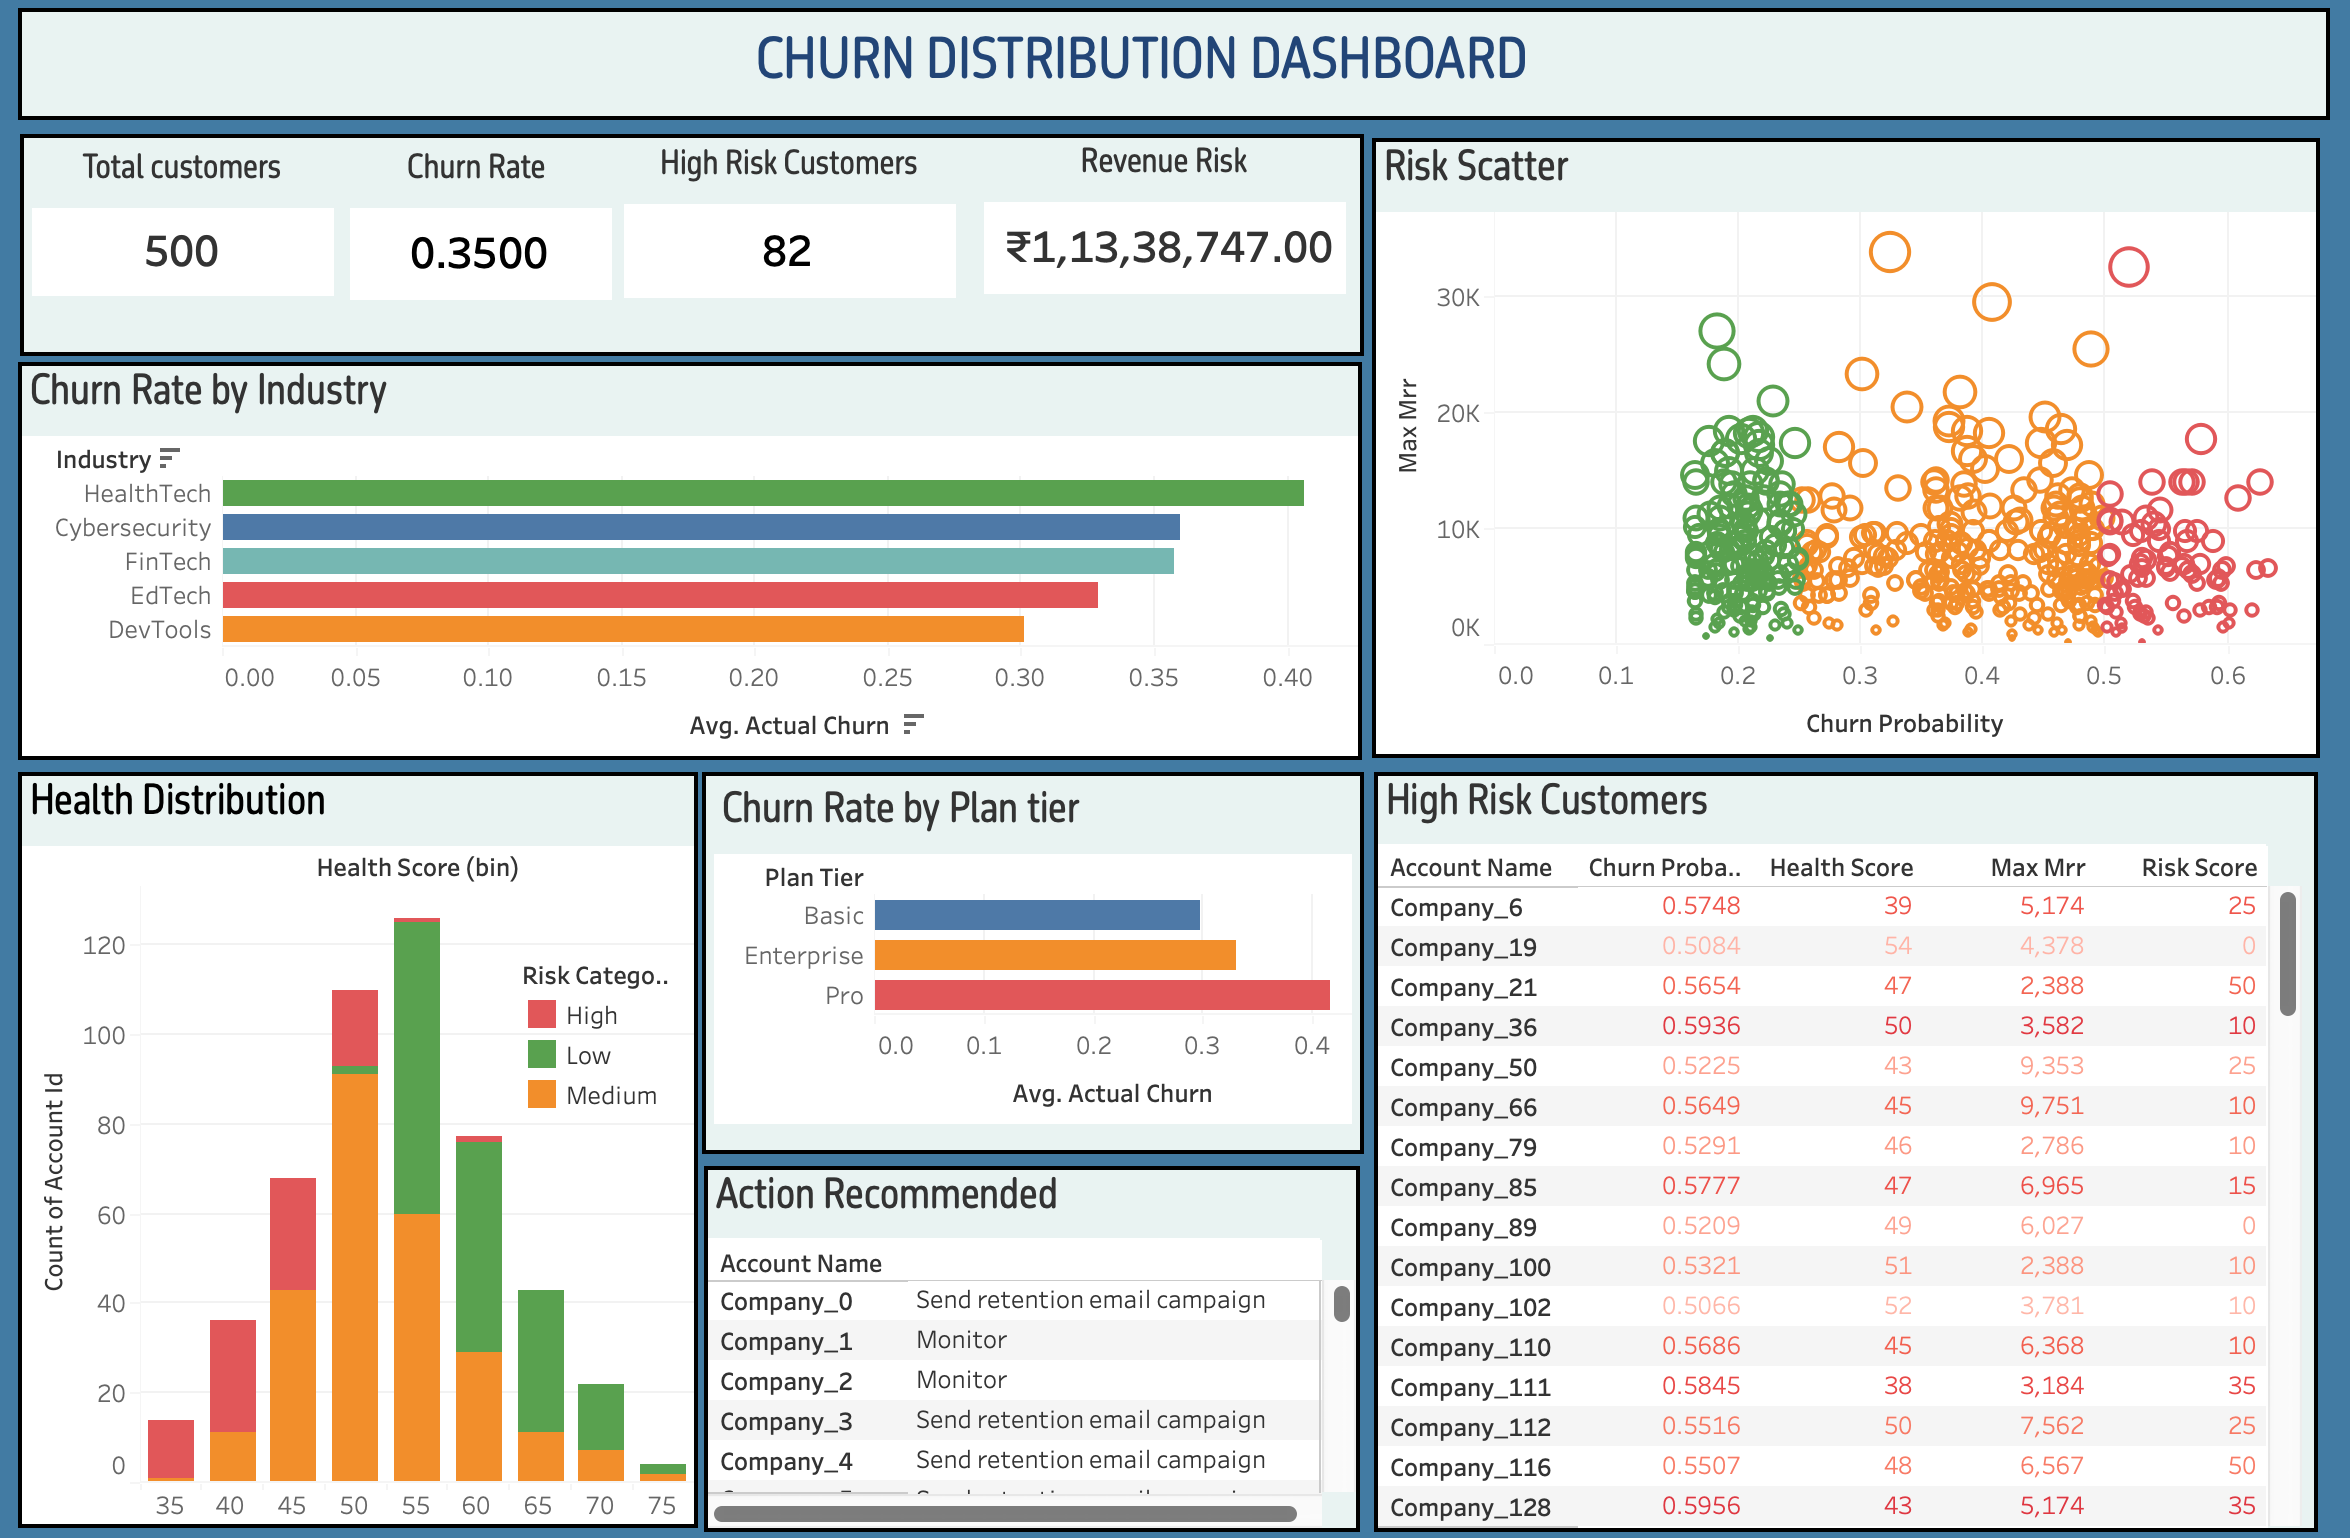

The dashboard page shown, as its layout file describes it:
{"tool":"tableau","page":{"name":"Churn dashboard","canvas":[1200,800],"ordinal":0},"visuals":[{"type":"text","box":[24,23,1120,52]},{"type":"blank","box":[1144,23,32,52]},{"type":"worksheet","title":"risk scatter","mark":"Automatic","rows":["max_mrr"],"cols":["churn_probability"],"box":[695,82,482,318]},{"type":"worksheet","title":"Total_customer","mark":"Automatic","box":[25,86,159,107]},{"type":"worksheet","title":"Churn_avg","mark":"Automatic","box":[184,86,140,107]},{"type":"worksheet","title":"revenue_risk","mark":"Automatic","box":[505,87,185,102]},{"type":"worksheet","title":"highrisk_count","mark":"Automatic","box":[325,88,171,102]},{"type":"worksheet","title":"churn by industry","mark":"Automatic","rows":["industry"],"cols":["actual_churn"],"box":[18,194,680,207]},{"type":"worksheet","title":"health distribution","mark":"Automatic","rows":["account_id"],"cols":["Health Score (bin)"],"box":[18,399,348,386]},{"type":"worksheet","title":"Sheet 11","mark":"Text","rows":["account_name"],"box":[696,399,480,388]},{"type":"worksheet","title":"churn by plan tier","mark":"Automatic","rows":["plan_tier"],"cols":["actual_churn"],"box":[366,405,327,187]},{"type":"legend","title":"health distribution","param":"[federated.0dznahy09gpxkz0zrbprp05w4h4d].[none:risk_category:nk]","box":[274,496,74,84]},{"type":"worksheet","title":"Action Recommened","mark":"Automatic","rows":["account_name"],"box":[361,596,336,191]}]}

Visuals, with their boxes in screenshot pixels (x1, y1, x2, y2), scaled from the page's 1200x800 canvas onto the 2350x1538 screenshot:
text: [47,44,2240,144]
blank: [2240,44,2303,144]
"risk scatter" worksheet: [1361,158,2305,769]
"Total_customer" worksheet: [49,165,360,371]
"Churn_avg" worksheet: [360,165,634,371]
"revenue_risk" worksheet: [989,167,1351,363]
"highrisk_count" worksheet: [636,169,971,365]
"churn by industry" worksheet: [35,373,1367,771]
"health distribution" worksheet: [35,767,717,1509]
"Sheet 11" worksheet (Text marks): [1363,767,2303,1513]
"churn by plan tier" worksheet: [717,779,1357,1138]
"health distribution" legend: [537,954,682,1115]
"Action Recommened" worksheet: [707,1146,1365,1513]
